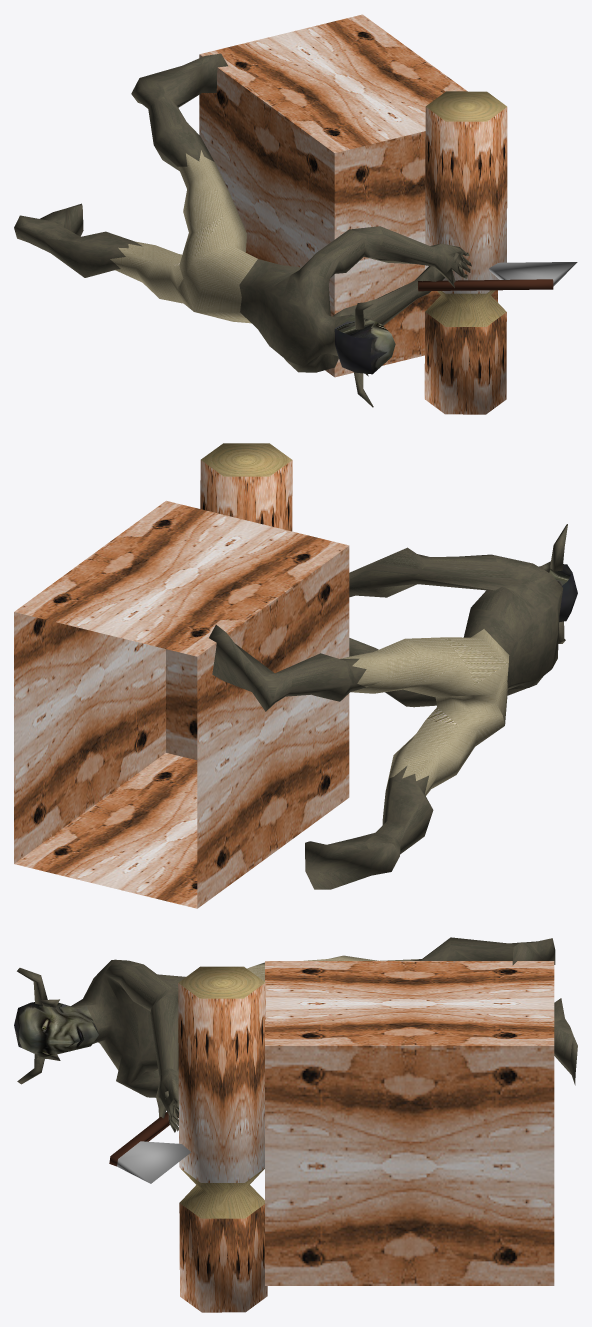
The model's file is lanka_000555.obj.
3 views of the same model, one above another, from view 1: azimuth 30°, elevation 25°; view 2: azimuth 150°, elevation 25°; view 3: azimuth 270°, elevation 25° (orthographic). The views are drawn at different scales.
Visible parts, largest first — view 1: cube_Cube, A4_Circle, log_Cylinder.002, axe_Cylinder.001; view 2: cube_Cube, A4_Circle, log_Cylinder.002; view 3: cube_Cube, log_Cylinder.002, A4_Circle, axe_Cylinder.001.
Boxes of the visible parts, x1,y1,x2,y2 form: cube_Cube: (199,14,497,377); A4_Circle: (14,53,471,407); log_Cylinder.002: (424,91,507,414); axe_Cylinder.001: (418,262,577,291); cube_Cube: (14,500,349,908); A4_Circle: (209,524,577,889); log_Cylinder.002: (200,443,292,531); cube_Cube: (265,961,554,1285); log_Cylinder.002: (178,966,267,1312); A4_Circle: (14,937,577,1132); axe_Cylinder.001: (109,1112,190,1183).
Bounding box in the file's own units: 2.23 × 1.68 × 2.73.
